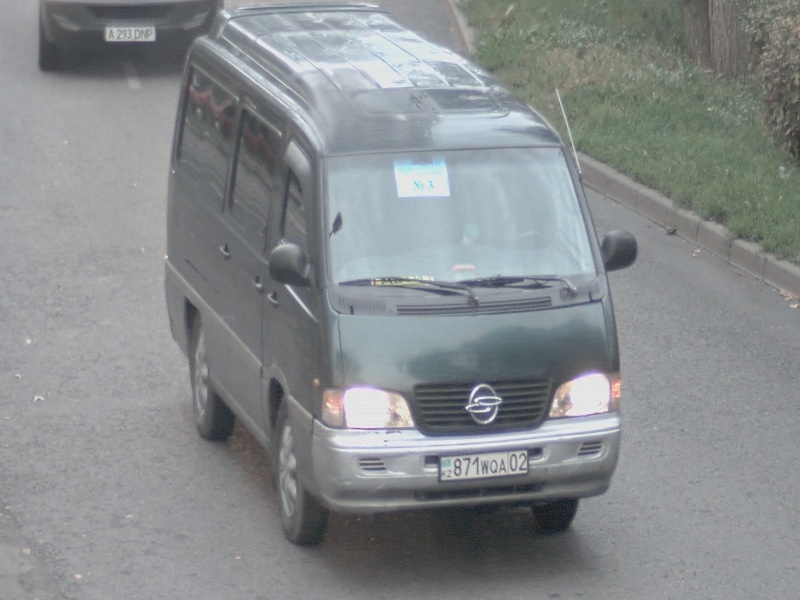plate: (437, 448, 530, 483), (103, 25, 157, 43)
